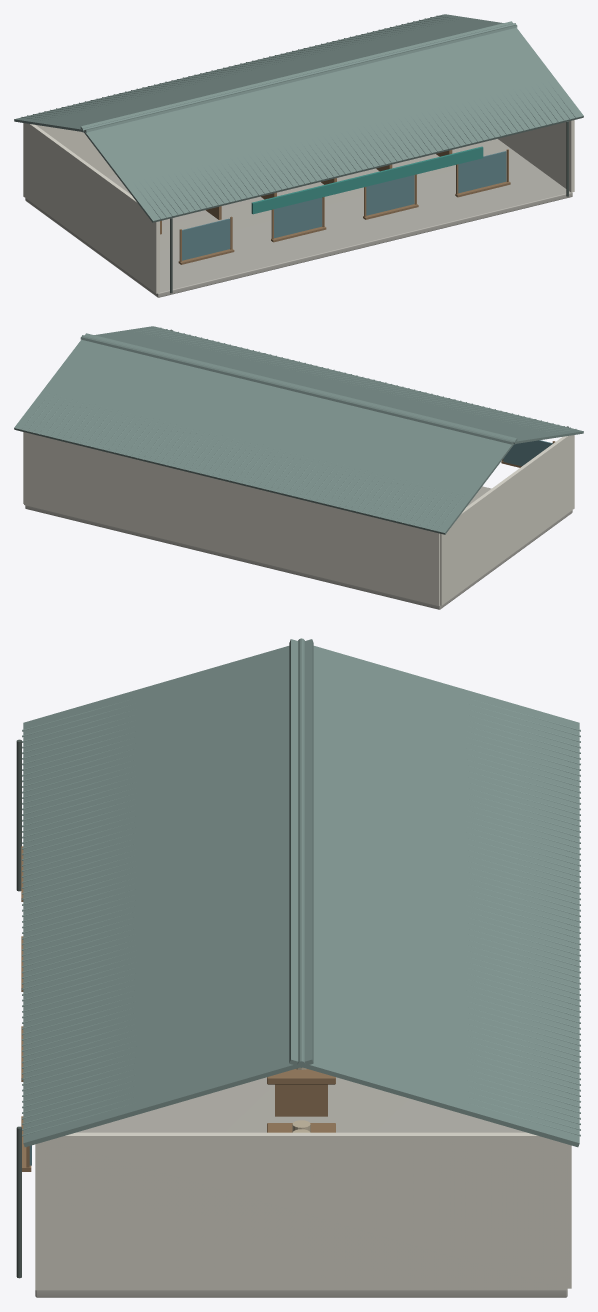
Rendered from market.glb.
The picture shows the model from 3 angles, top to bottom: view 1: azimuth 30°, elevation 25°; view 2: azimuth 150°, elevation 25°; view 3: azimuth 270°, elevation 25°; orthographic projection. The views are drawn at different scales.
Visible parts, largest first — view 1: roof, concrete, plaster, glass, teal, wood, steel; view 2: roof, plaster, concrete, glass; view 3: roof, plaster, concrete, wood, steel.
Boxes of the visible parts, x1,y1,x2,y2 form: roof: (14,14,583,222); concrete: (25,139,572,297); plaster: (23,120,574,293); glass: (182,151,506,260); teal: (251,146,483,214); wood: (160,149,510,264); steel: (170,121,568,293); roof: (14,326,583,534); plaster: (23,432,574,605); concrete: (25,486,572,609); glass: (503,440,552,466); roof: (22,638,580,1147); plaster: (35,1132,571,1290); concrete: (35,1077,567,1297); wood: (21,846,335,1171); steel: (16,739,21,1278).
Size of the model in its own units: 18.8 by 5.11 by 10.61.
